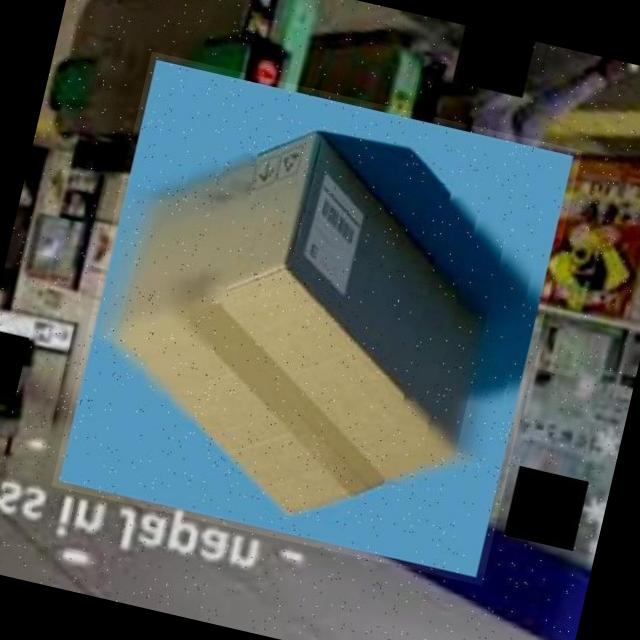box: (51, 51, 582, 584)
